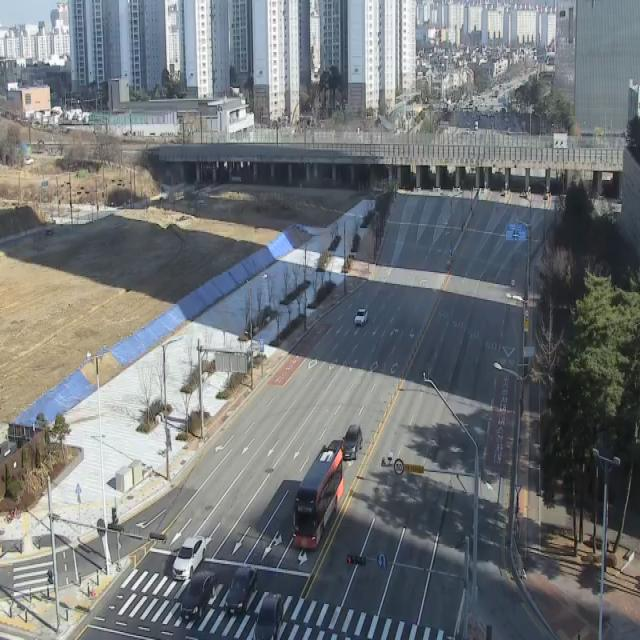Bus: (294, 449, 343, 549)
Car: (179, 570, 218, 621), (224, 566, 258, 614), (172, 537, 206, 580), (254, 593, 284, 640), (342, 425, 362, 460), (354, 308, 369, 326)
